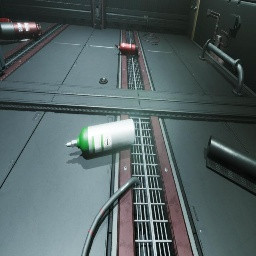0: (66, 118, 135, 155)
FireExtinguisher ]: (115, 43, 139, 56)
FirstAidBox ,: (0, 18, 12, 38)
NitrogenTank ,: (0, 22, 42, 40)
